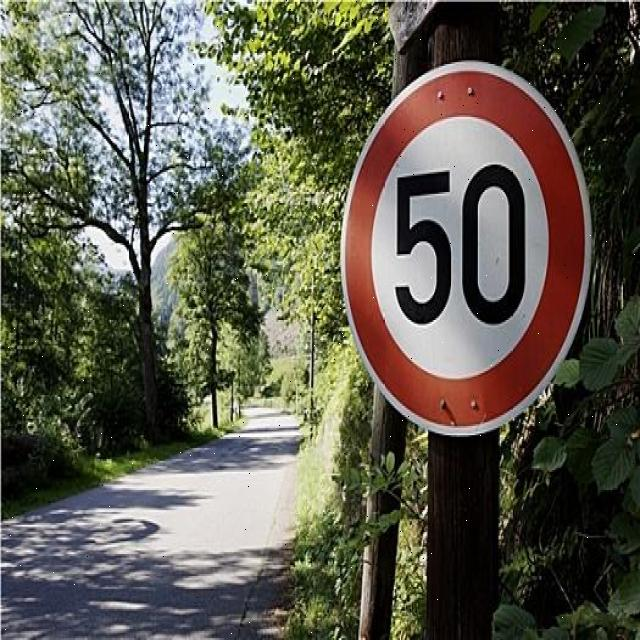speed limit 50: (341, 61, 592, 436)
